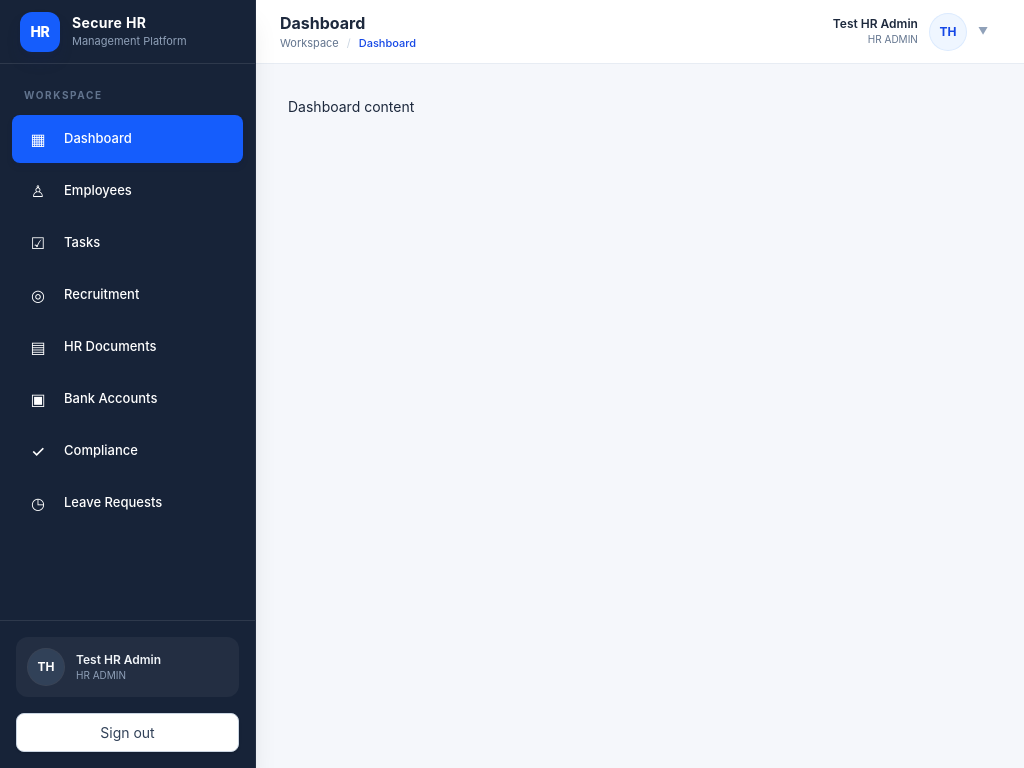
AppLayout › navigates to the profile page from the user menu
Click the button with aria-label "Open user menu" at [910, 32], box left=821, top=8, right=1000, bottom=56
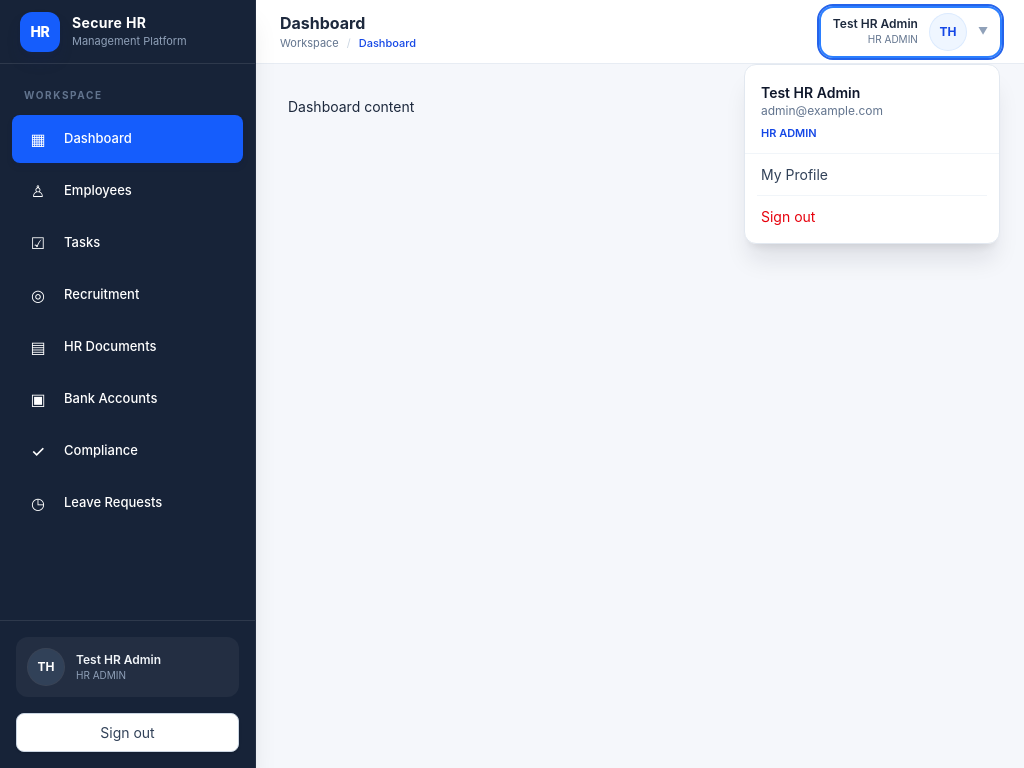
Click the menu item "My Profile" at [872, 174], box left=745, top=154, right=999, bottom=195
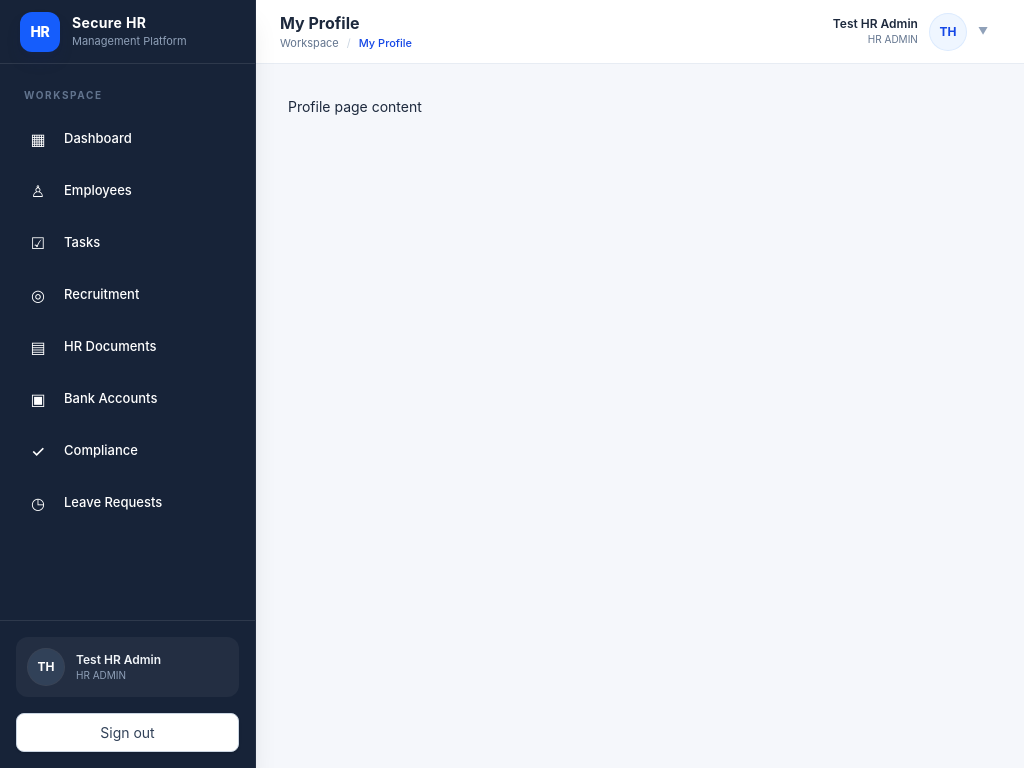
Expected: the text "Profile page content" is shown, left=288, top=98, right=422, bottom=115
Expected: the menu is gone
